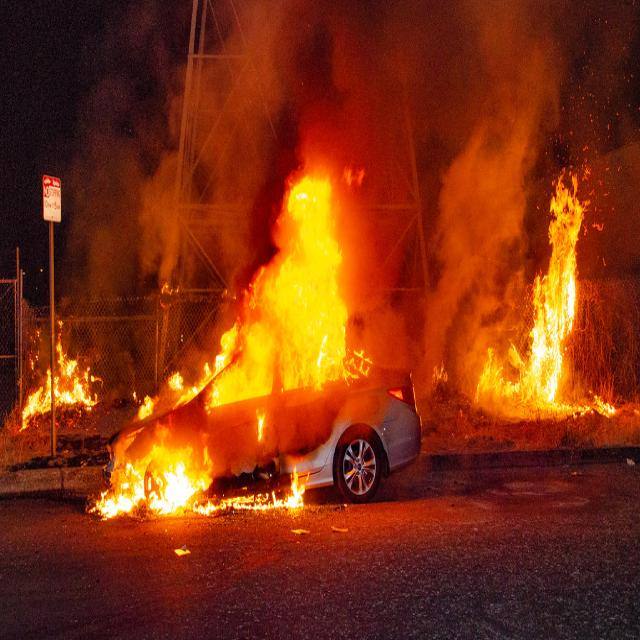fire: (190, 184, 352, 403), (531, 173, 589, 420), (80, 446, 215, 520), (23, 340, 100, 420), (223, 470, 307, 514), (473, 344, 529, 409)
